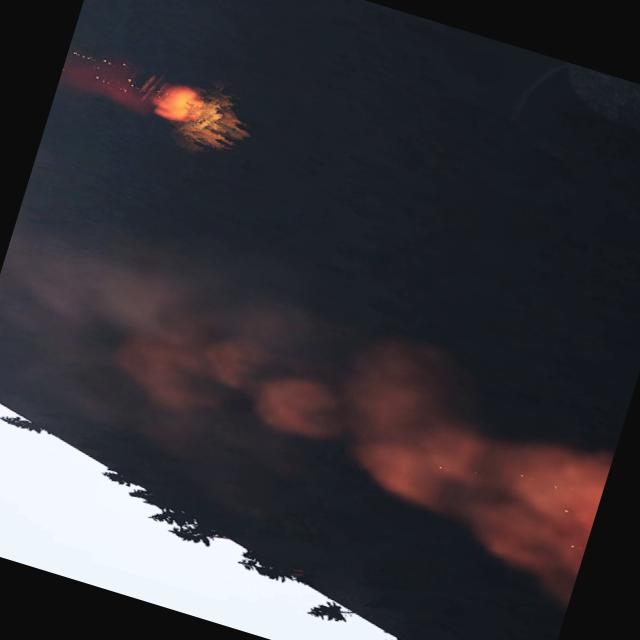fire: (148, 77, 208, 127)
smoke: (0, 181, 640, 602), (56, 41, 160, 116)
